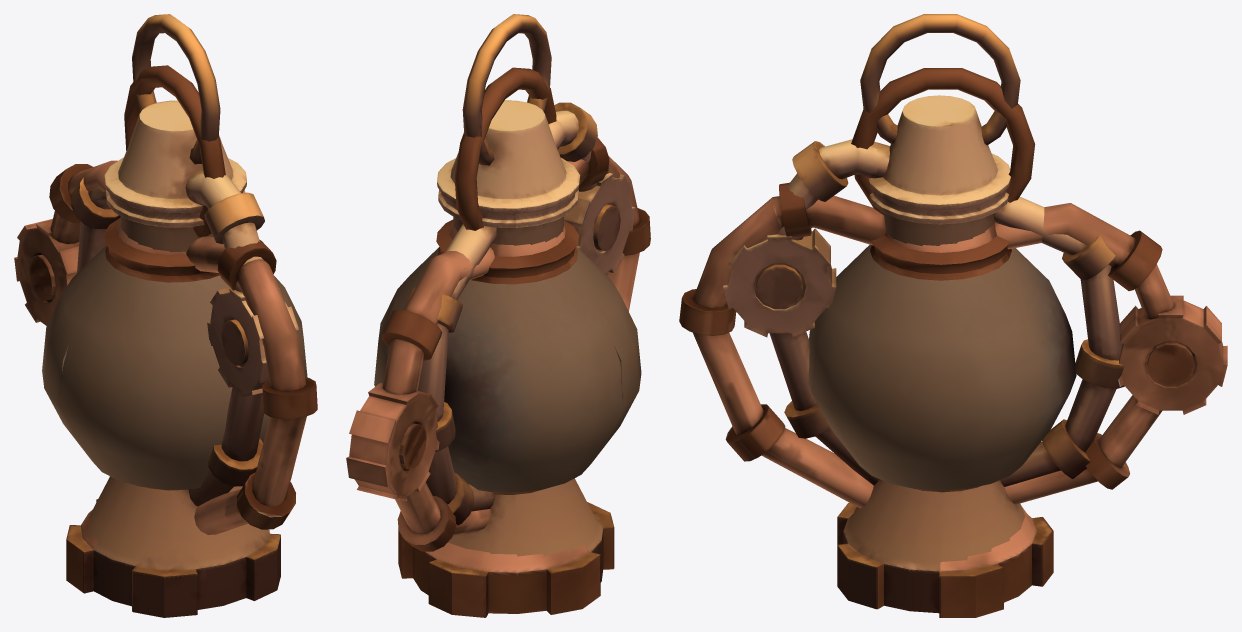
The model's file is F_oils_lamps_01.fbx.
3 views of the same model, side by side, from view 1: azimuth 30°, elevation 25°; view 2: azimuth 150°, elevation 25°; view 3: azimuth 270°, elevation 25° (orthographic).
Visible parts, largest first — view 1: f_oil_lamp_01, f_oil_lamp_02; view 2: f_oil_lamp_01, f_oil_lamp_02; view 3: f_oil_lamp_01, f_oil_lamp_02.
Part boxes in pixels (left/top/right/bottom): f_oil_lamp_01: left=14, top=65, right=317, bottom=611; f_oil_lamp_02: left=67, top=14, right=301, bottom=617; f_oil_lamp_01: left=346, top=67, right=650, bottom=617; f_oil_lamp_02: left=405, top=14, right=635, bottom=617; f_oil_lamp_01: left=679, top=68, right=1227, bottom=617; f_oil_lamp_02: left=723, top=14, right=1124, bottom=617.
Bounding box in the file's own units: 0.2046 × 0.4644 × 0.414.
